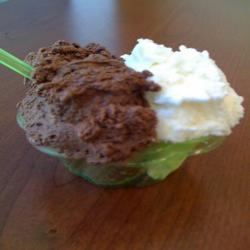icecream: (19, 26, 250, 175)
